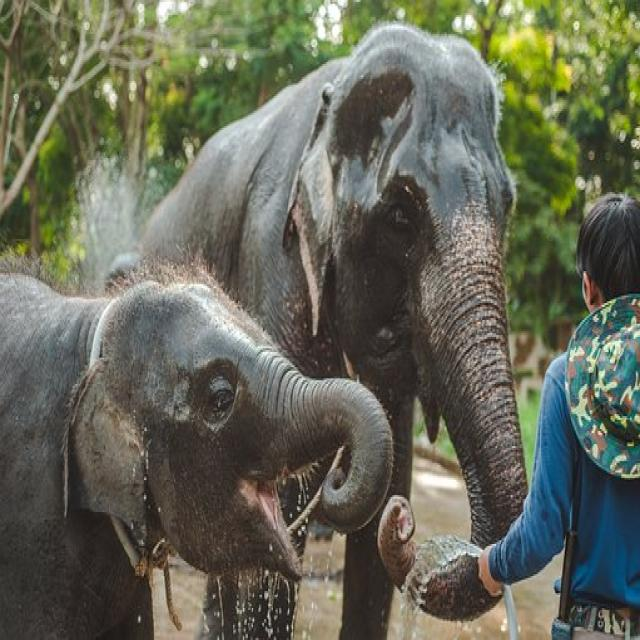Elephant: (136, 7, 543, 640), (5, 235, 411, 640)
